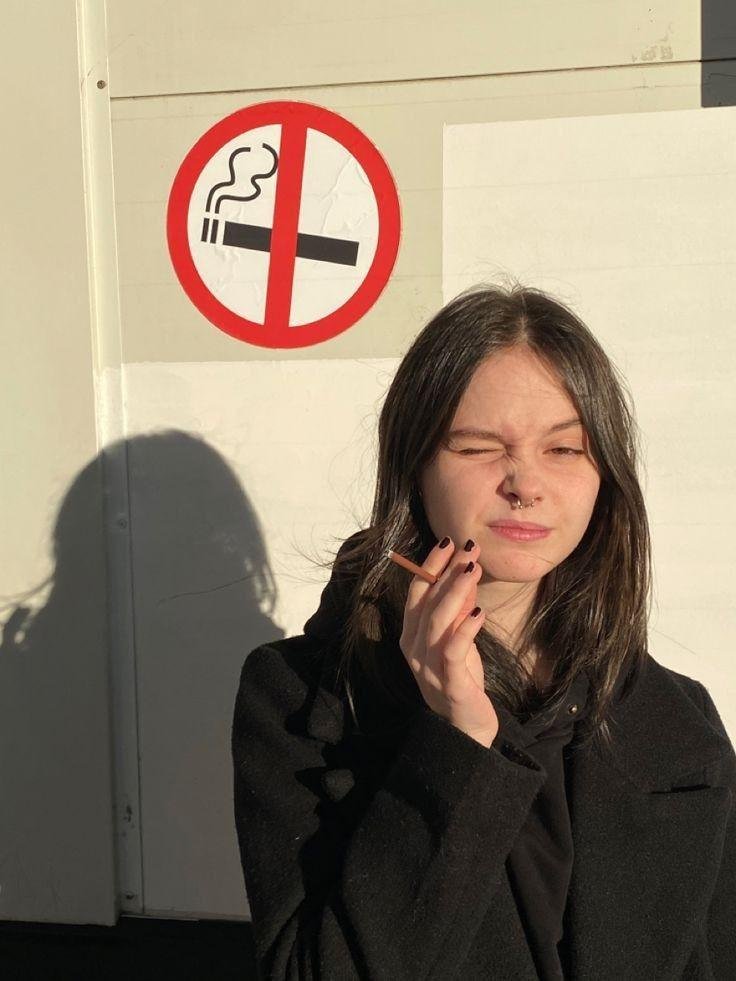cigarette: (387, 550, 436, 584)
